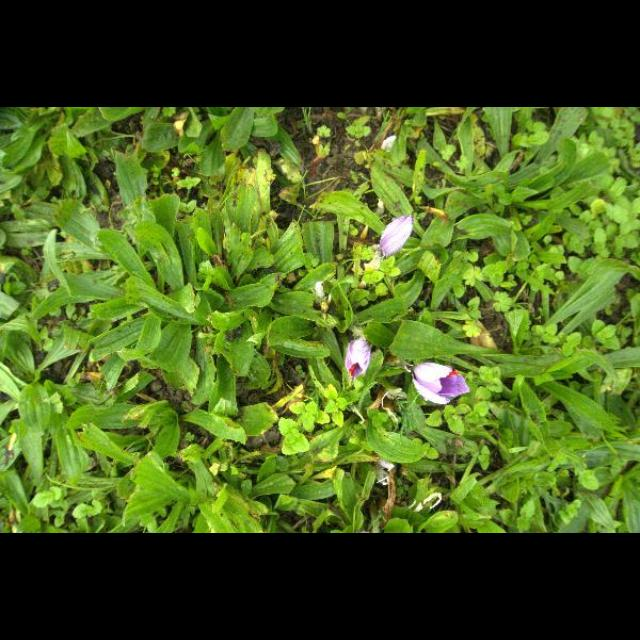flower: (411, 363, 472, 405), (379, 215, 415, 259), (344, 337, 372, 379)
